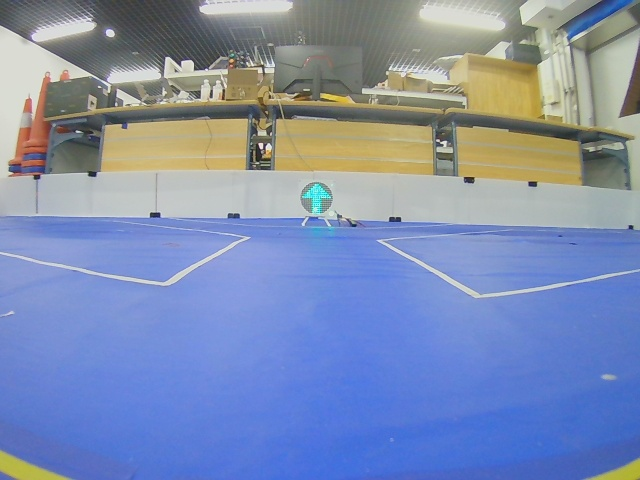straight_green: (300, 182, 333, 215)
